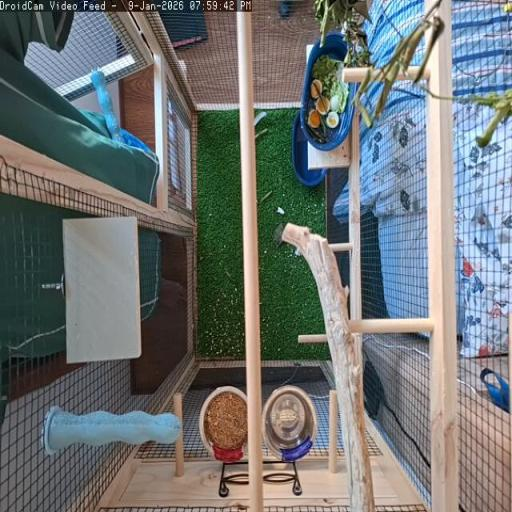bebedero: (263, 387, 316, 461)
comedero: (198, 386, 246, 461)
